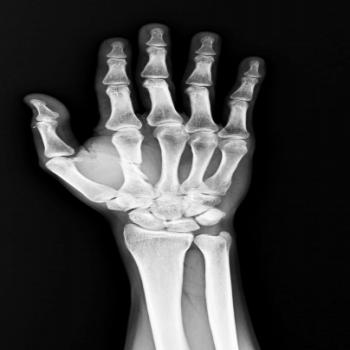Fracture: (113, 155, 148, 167)
